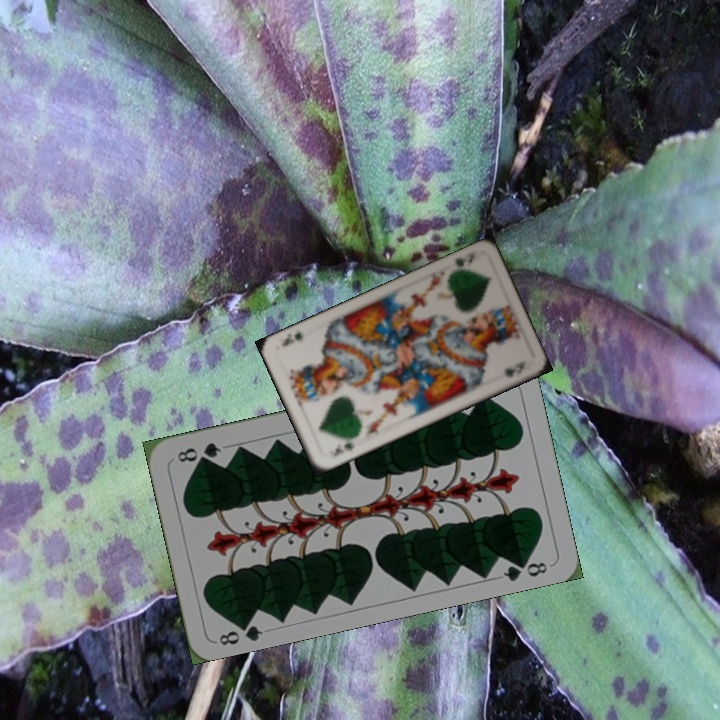G8: (215, 615, 265, 648)
GK: (325, 437, 358, 459), (451, 250, 476, 269)
